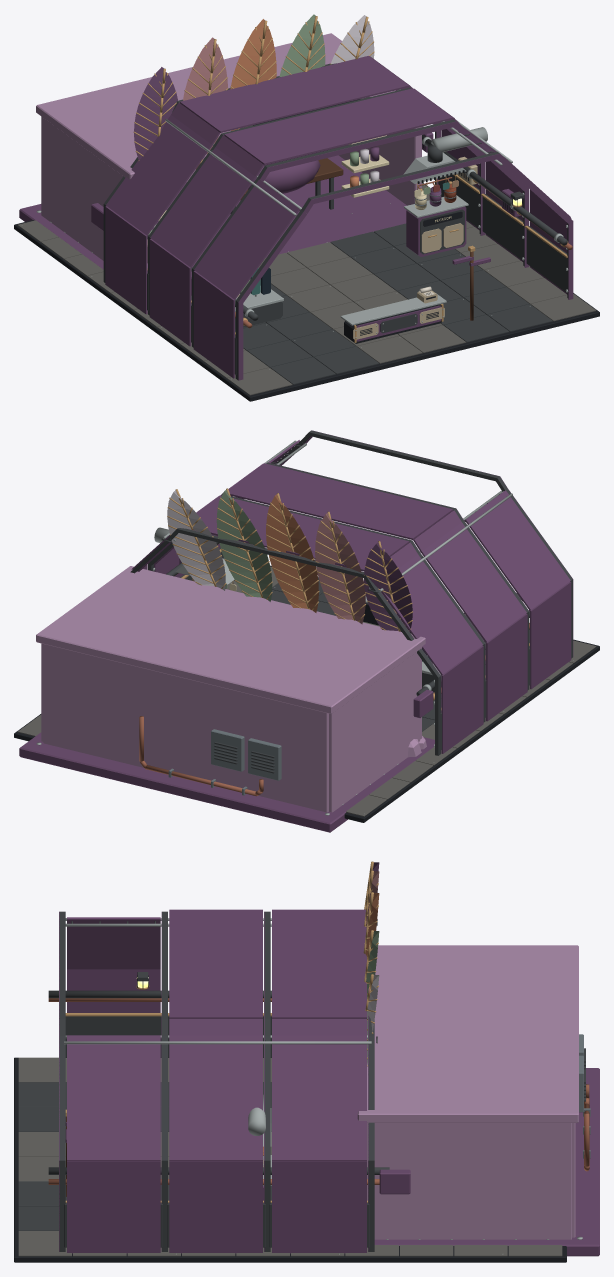
The model's file is amethyne-livery.glb.
The picture shows the model from 3 angles, top to bottom: view 1: azimuth 30°, elevation 25°; view 2: azimuth 150°, elevation 25°; view 3: azimuth 270°, elevation 25°; orthographic projection. The views are drawn at different scales.
Visible parts, largest first — view 1: amethyne-livery; view 2: amethyne-livery; view 3: amethyne-livery.
Part boxes in pixels (x1,y1,x2,y2): amethyne-livery: (14, 14, 599, 401); amethyne-livery: (14, 430, 599, 832); amethyne-livery: (14, 861, 599, 1262).
Size of the model in its own units: 17.08 by 10.82 by 21.14.
Materials: 26 (23 with a texture image).
